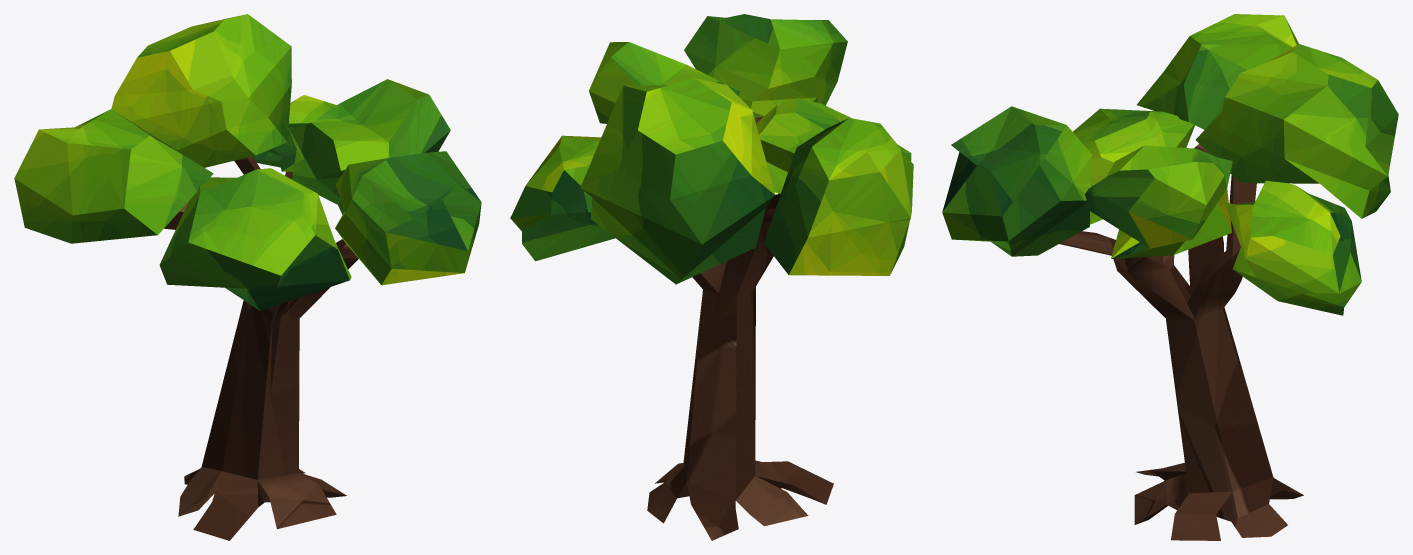
Rendered from Tree3.fbx.
The picture shows the model from 3 angles, left to right: view 1: azimuth 30°, elevation 25°; view 2: azimuth 150°, elevation 25°; view 3: azimuth 270°, elevation 25°; orthographic projection. The views are drawn at different scales.
Visible parts, largest first — view 1: pSphere7; view 2: pSphere7; view 3: pSphere7.
Part boxes in pixels (box(x1,y1,x2,y2)): pSphere7: box(14, 14, 481, 540); pSphere7: box(510, 14, 913, 540); pSphere7: box(942, 14, 1398, 540).
Size of the model in its own units: 14.88 by 17.44 by 15.78.
Materials: 2 (2 with a texture image).
